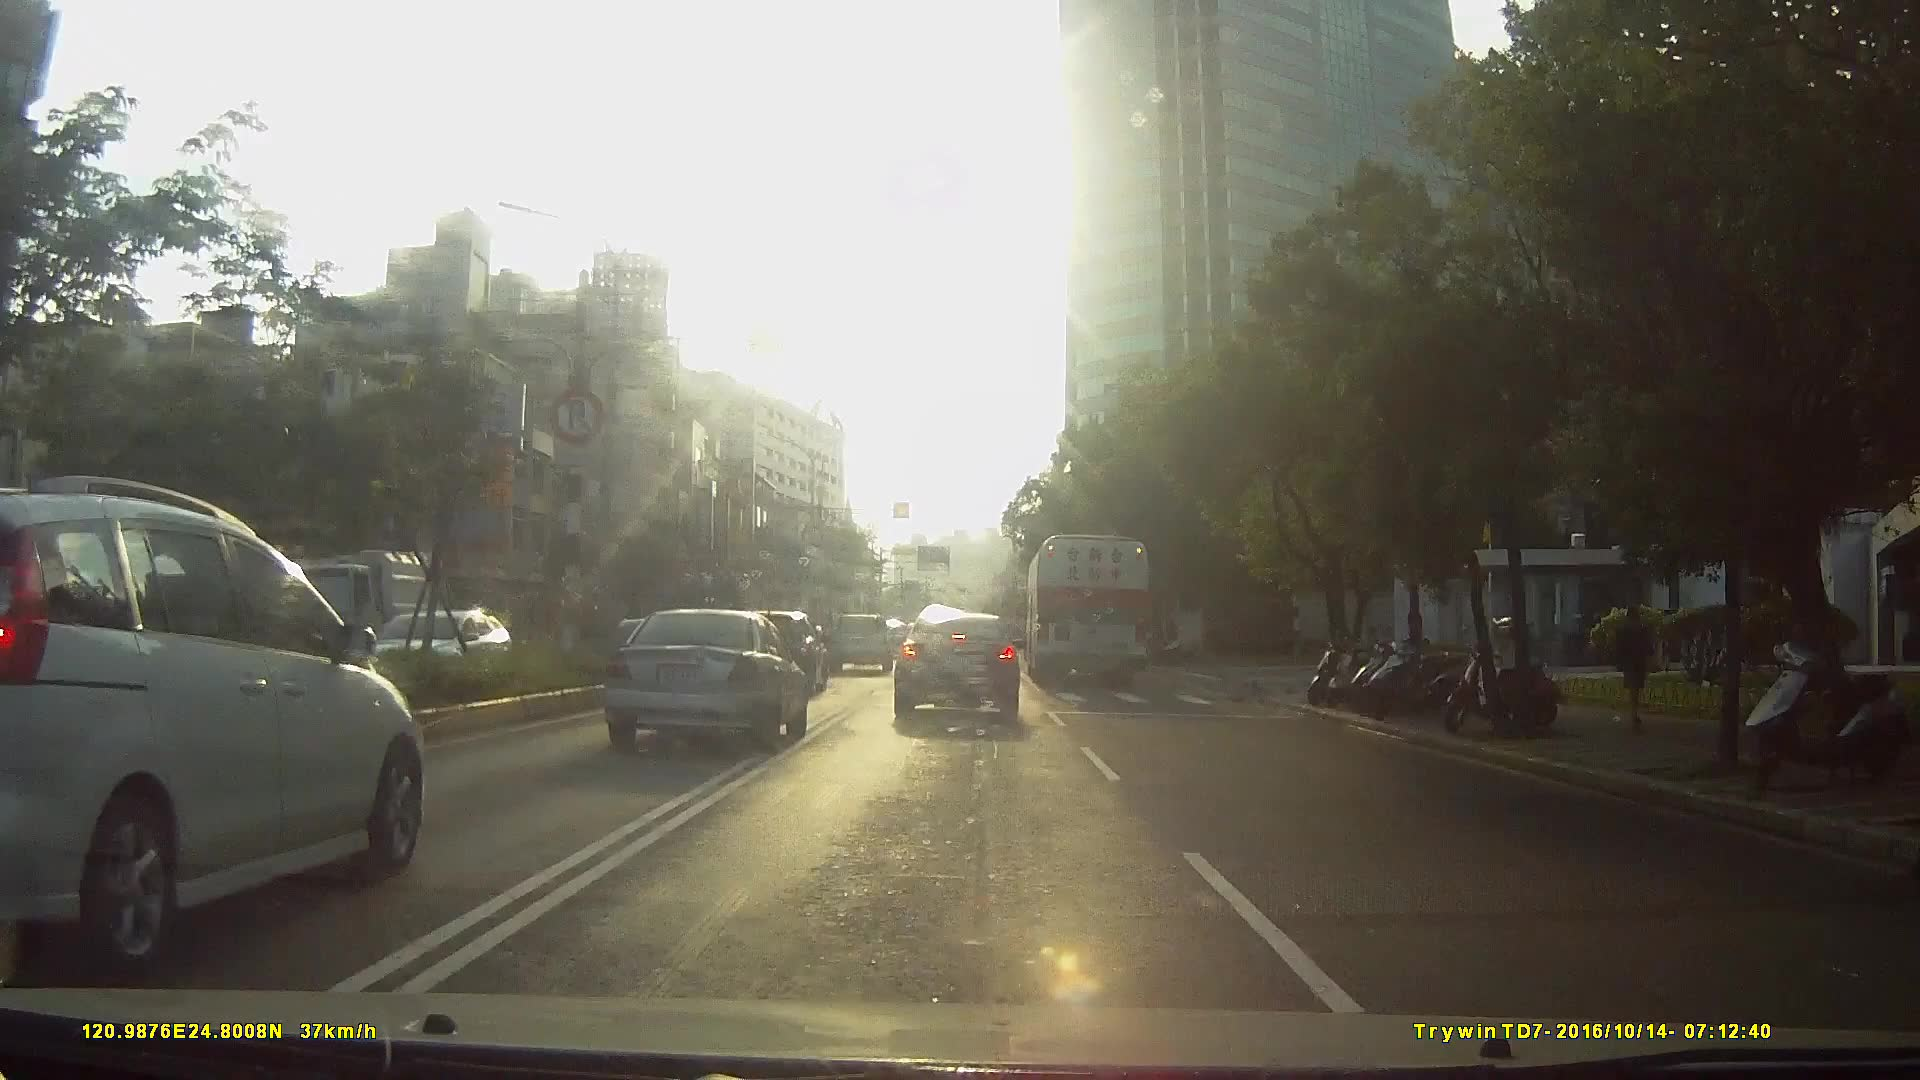pedestrian: (1613, 602, 1663, 722)
vehicle: (1, 471, 438, 972), (250, 556, 684, 868), (591, 600, 804, 747), (1022, 529, 1150, 689), (258, 545, 419, 660), (890, 602, 1020, 724), (373, 604, 515, 696), (824, 607, 892, 671)
